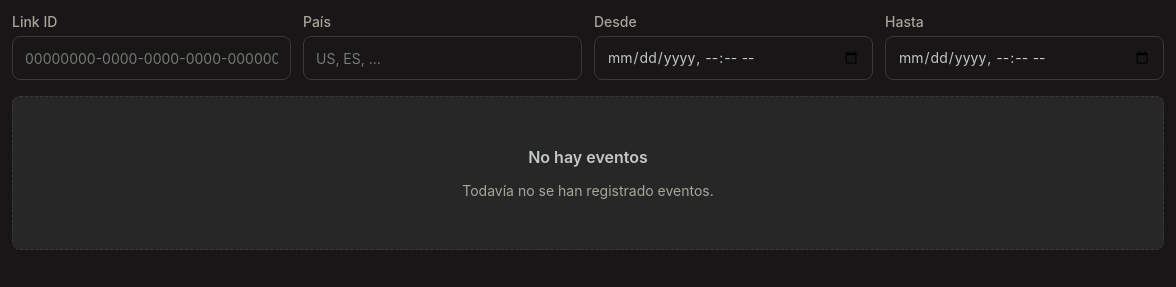
Test: EventsTable — empty + filters › shows the "filter-mismatch" empty copy when a date range is set
This screenshot has width=1176, height=287.
Type "2026-01-01T00:00" into the field labelled "Desde".
click(734, 58); type("2026-01-01T00:00")  # box top-left (594, 36), bottom-right (873, 80)
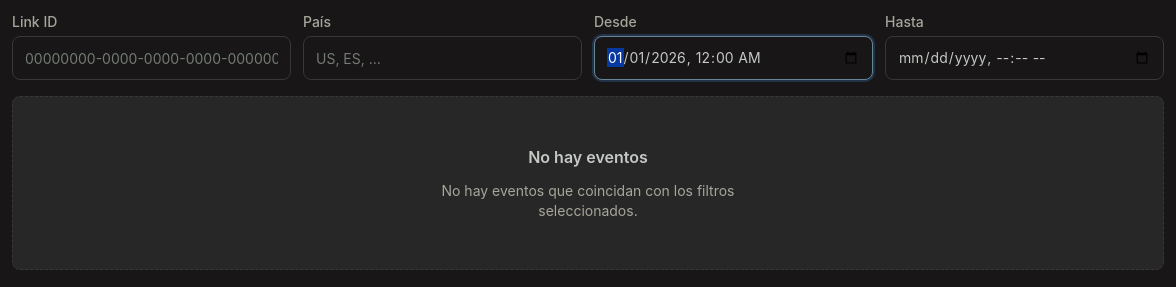
Check: the text "No hay eventos que coincidan con los filtros seleccionados." is shown, box top-left (442, 182), bottom-right (734, 219)
